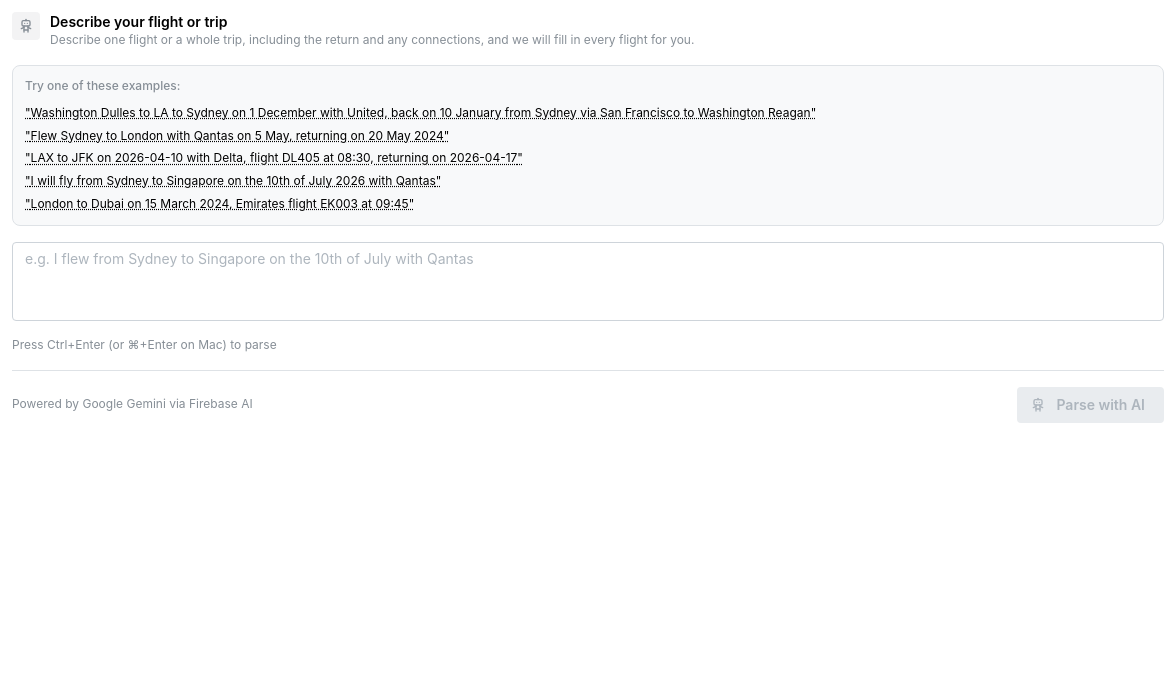
Test: FlightChatInput › shows a missing-fields warning when required fields are null
Type "vague description" into the text box at (588, 281), box [12, 242, 1164, 321]
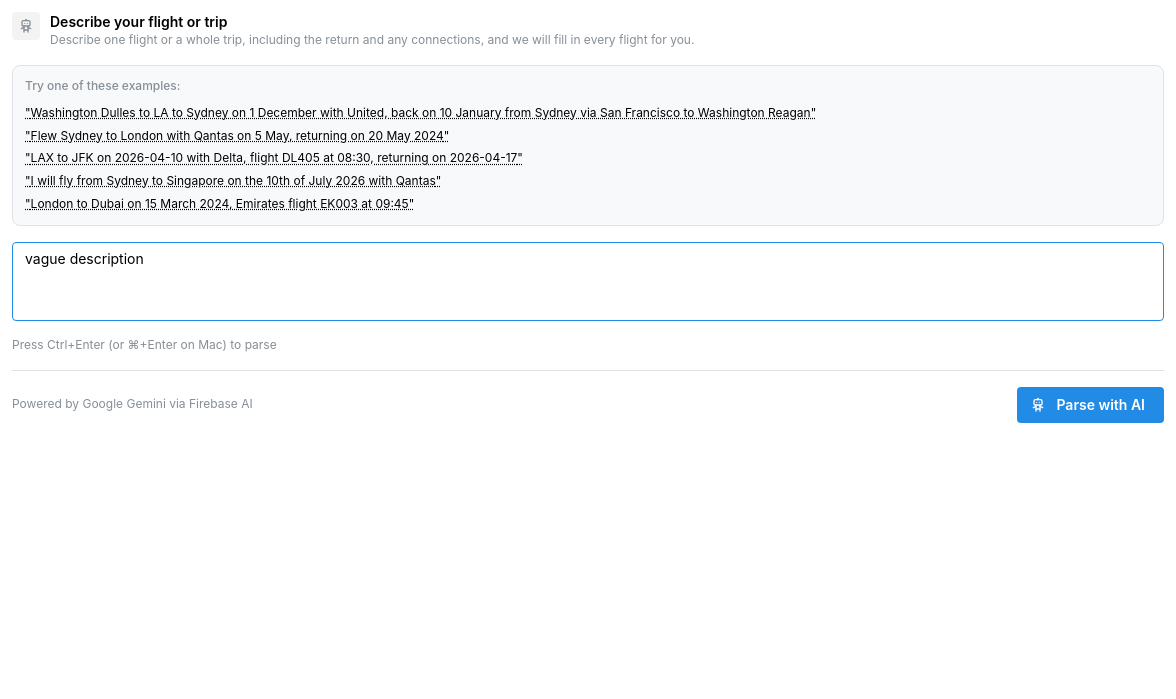
Click the button "Parse with AI" at (1091, 405), box [1018, 387, 1164, 423]
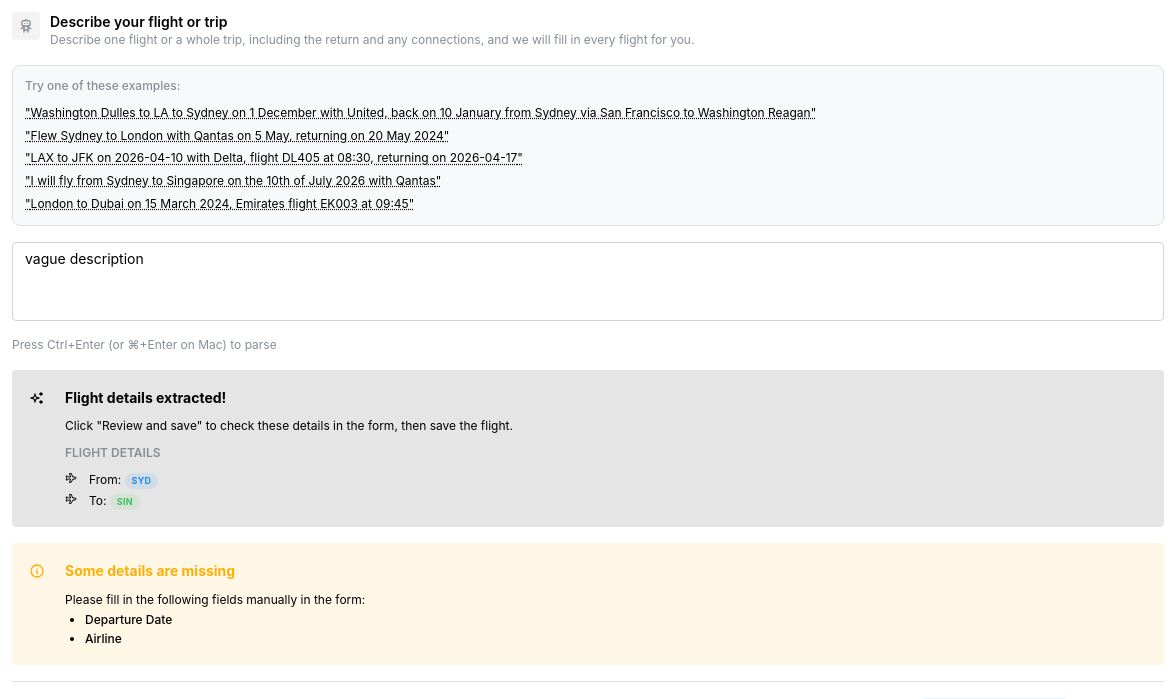
Now the text "Some details are missing" is shown, box [65, 560, 235, 582]
Now the text "Departure Date" is shown, box [85, 612, 172, 629]
Now the text "Airline" is shown, box [85, 631, 122, 648]
